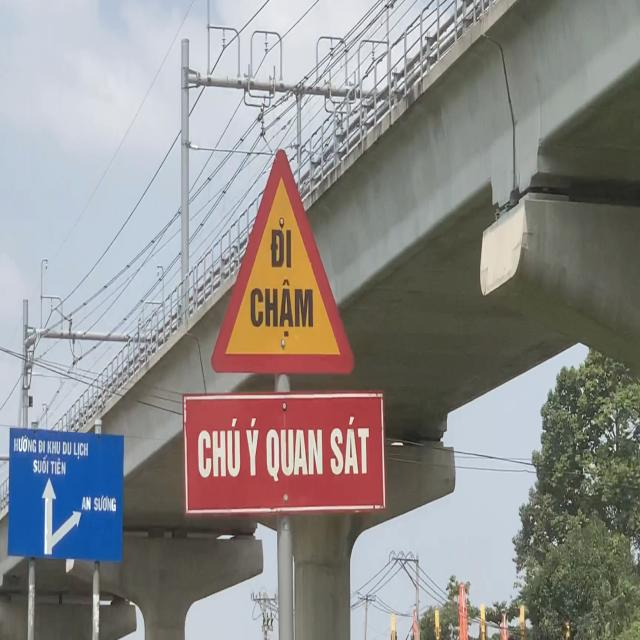Nguy hiem: (206, 145, 360, 383)
